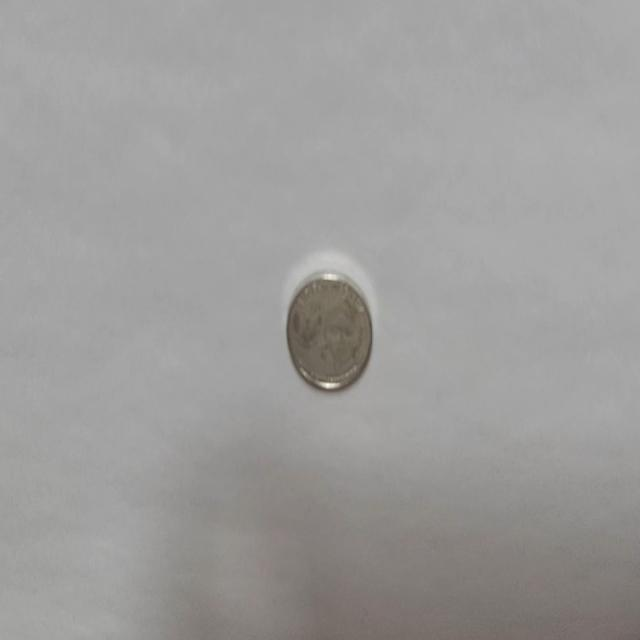dua ratus rupiah: (285, 268, 373, 392)
